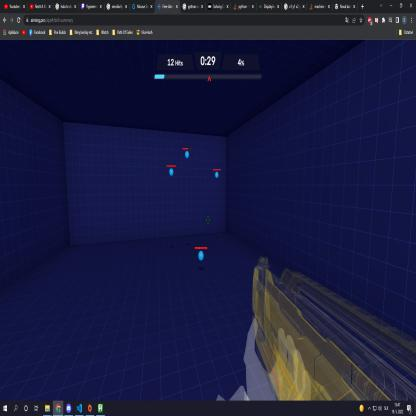sphere: (168, 167, 174, 178), (184, 150, 190, 160), (198, 251, 204, 261), (214, 171, 220, 179)
